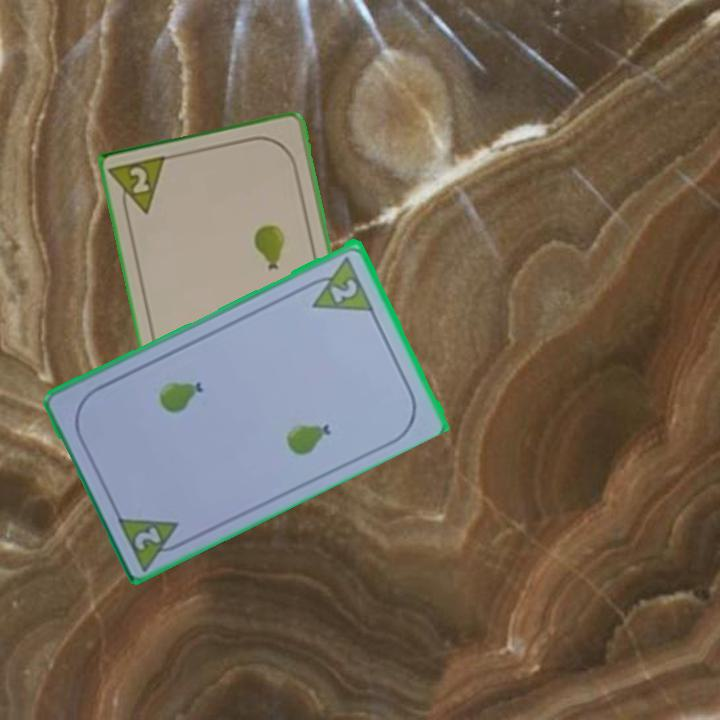2p: (113, 510, 192, 572), (109, 152, 173, 223), (327, 274, 361, 305)
